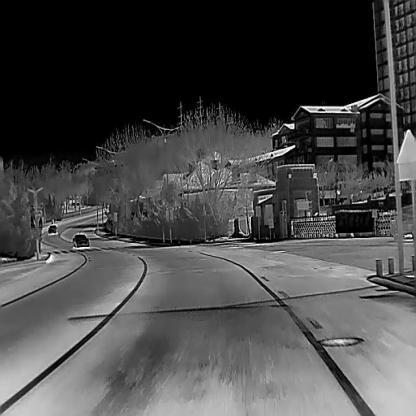car: (388, 205, 415, 241), (72, 232, 90, 247), (48, 224, 58, 233)
